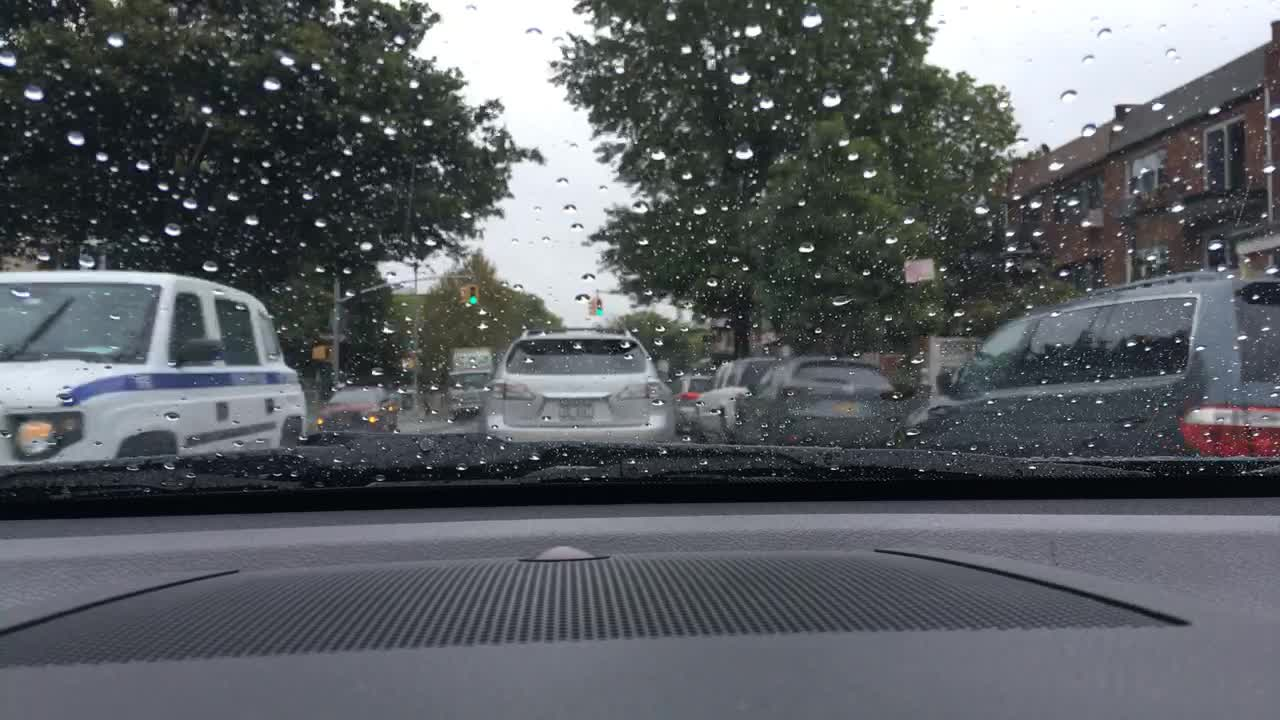car: (879, 266, 1279, 457), (0, 269, 307, 467), (477, 329, 676, 448), (731, 356, 901, 449), (690, 358, 783, 445), (315, 386, 402, 439), (673, 375, 722, 443)
traffic light: (468, 283, 480, 307), (310, 345, 327, 361), (401, 356, 414, 370), (595, 296, 603, 318), (584, 298, 593, 313), (458, 287, 466, 301)
traffic sign: (905, 261, 937, 280), (319, 331, 348, 341)
truck: (447, 347, 493, 421)
